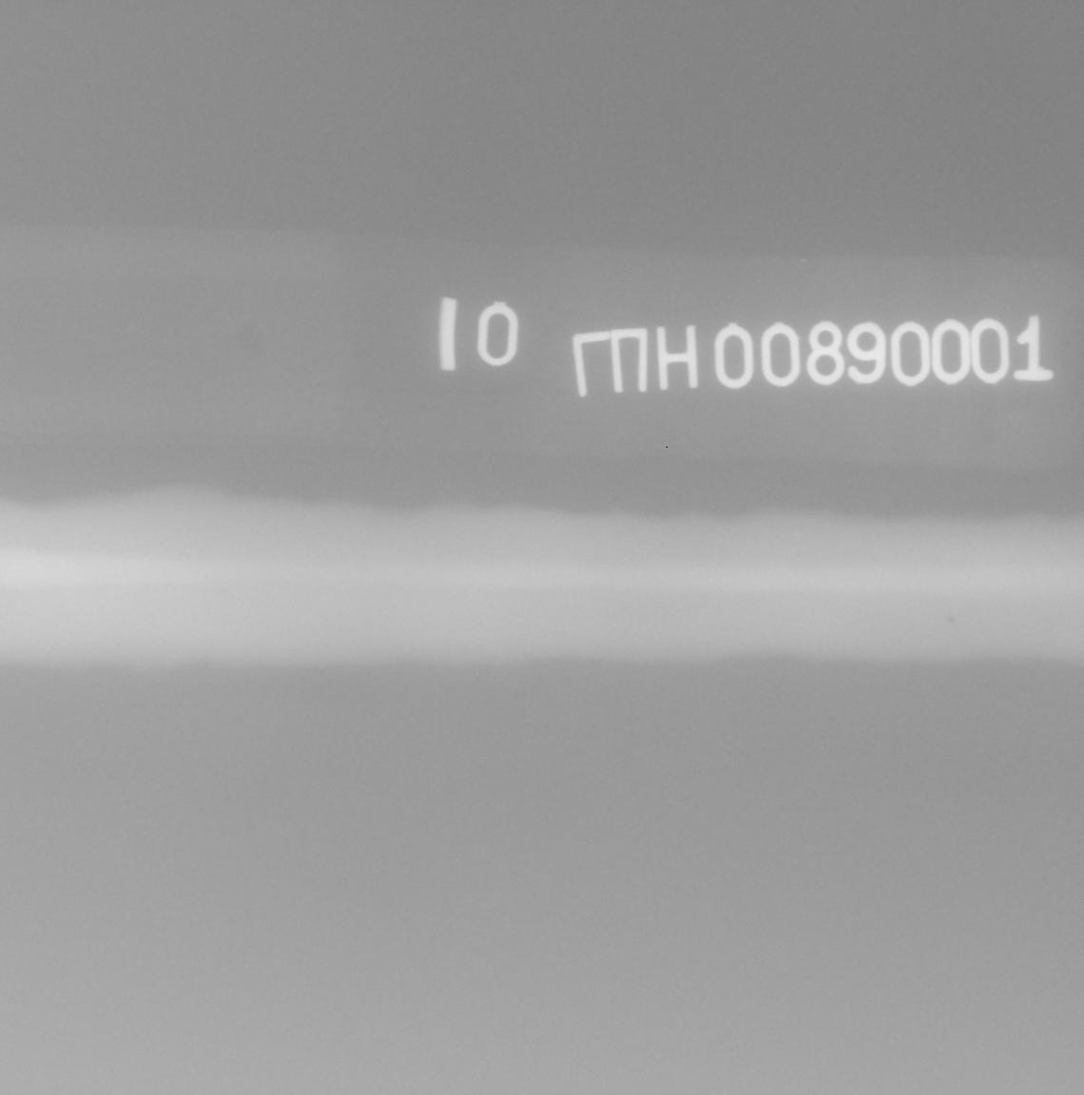Pore/Porosity: (947, 616, 957, 626)
